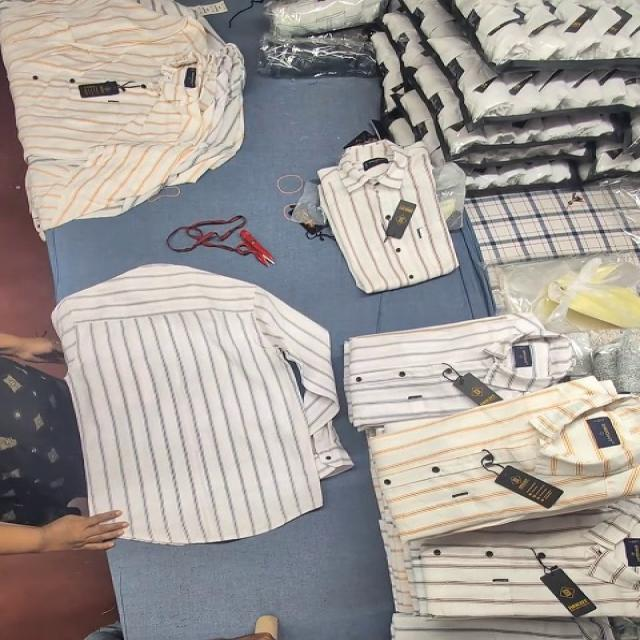new-garment: (53, 265, 352, 543)
